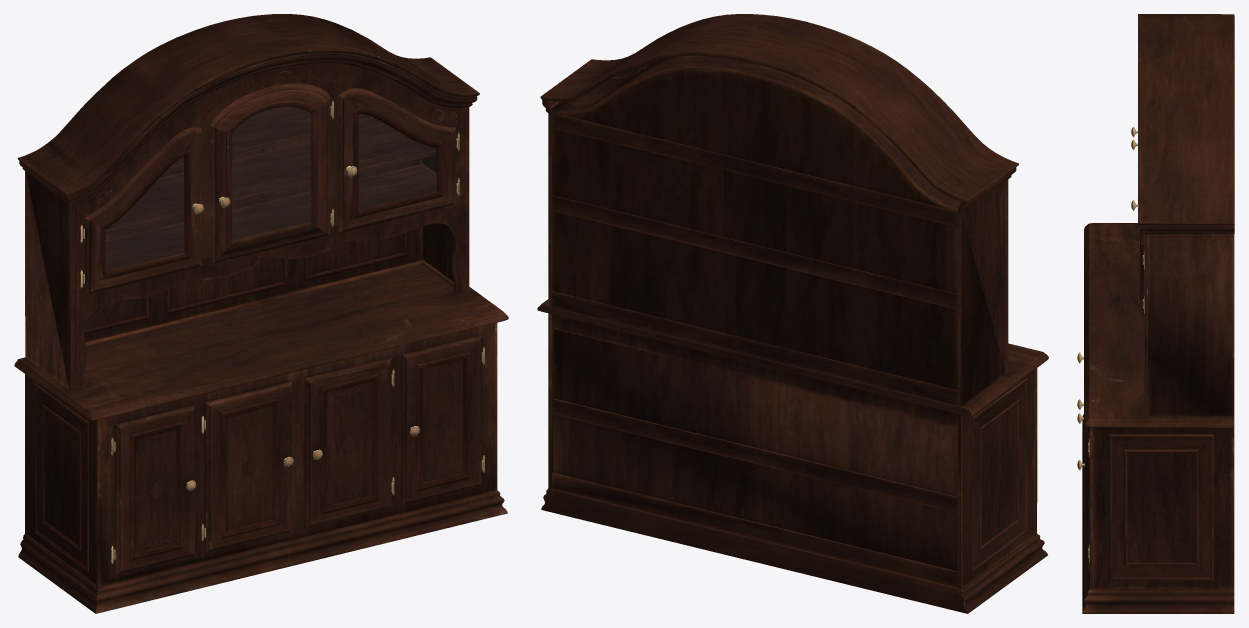
Rendered from vintage_cabinet_01.glb.
3 views of the same model, side by side, from view 1: azimuth 30°, elevation 25°; view 2: azimuth 150°, elevation 25°; view 3: azimuth 270°, elevation 25° (orthographic). The views are drawn at different scales.
Visible parts, largest first — view 1: vintage_cabinet_01_body, vintage_cabinet_01_door_03, vintage_cabinet_01_door_01, vintage_cabinet_01_door_04, vintage_cabinet_01_door_06, vintage_cabinet_01_door_07, vintage_cabinet_01_door_02, vintage_cabinet_01_door_05; view 2: vintage_cabinet_01_body; view 3: vintage_cabinet_01_body, vintage_cabinet_01_door_02, vintage_cabinet_01_door_04.
Boxes of the visible parts, x1,y1,x2,y2 form: vintage_cabinet_01_body: (14, 14, 508, 613); vintage_cabinet_01_door_03: (210, 83, 332, 264); vintage_cabinet_01_door_01: (83, 127, 203, 295); vintage_cabinet_01_door_04: (338, 88, 458, 233); vintage_cabinet_01_door_06: (204, 381, 293, 552); vintage_cabinet_01_door_07: (305, 357, 392, 528); vintage_cabinet_01_door_02: (402, 335, 483, 504); vintage_cabinet_01_door_05: (114, 405, 195, 574); vintage_cabinet_01_body: (537, 14, 1048, 613); vintage_cabinet_01_body: (1082, 14, 1234, 613); vintage_cabinet_01_door_02: (1077, 426, 1089, 572); vintage_cabinet_01_door_04: (1131, 200, 1144, 319).
Size of the model in its own units: 2.02 by 2.24 by 0.6699.
3 materials, 2 textured.
